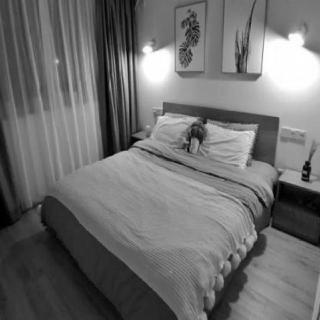other: (260, 32, 318, 90), (140, 48, 171, 85)
